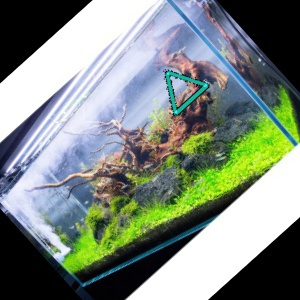triangle: (161, 66, 212, 116)
